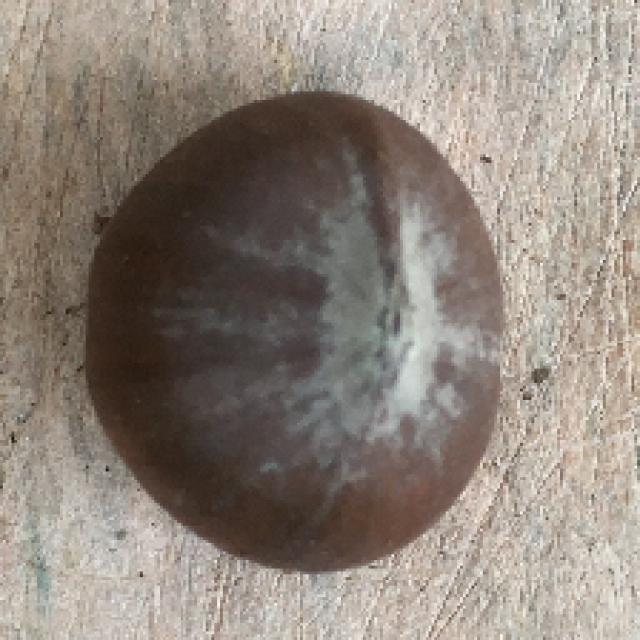qualityHazelnut: (86, 91, 515, 567)
